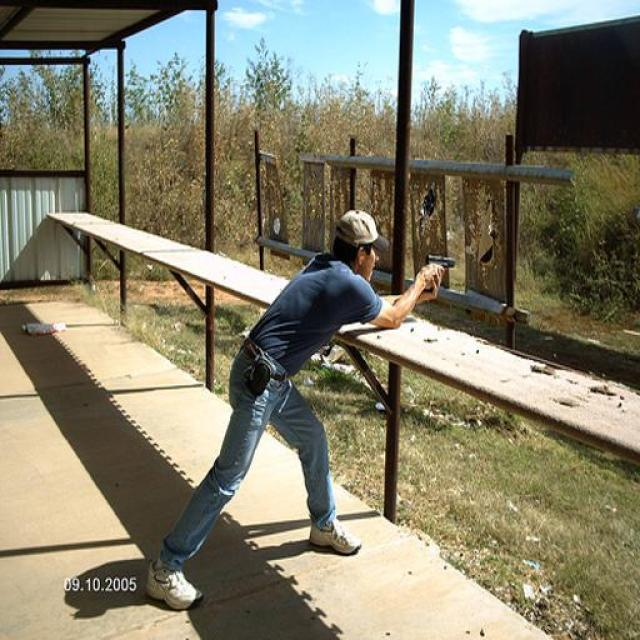pistol: (423, 250, 454, 295)
